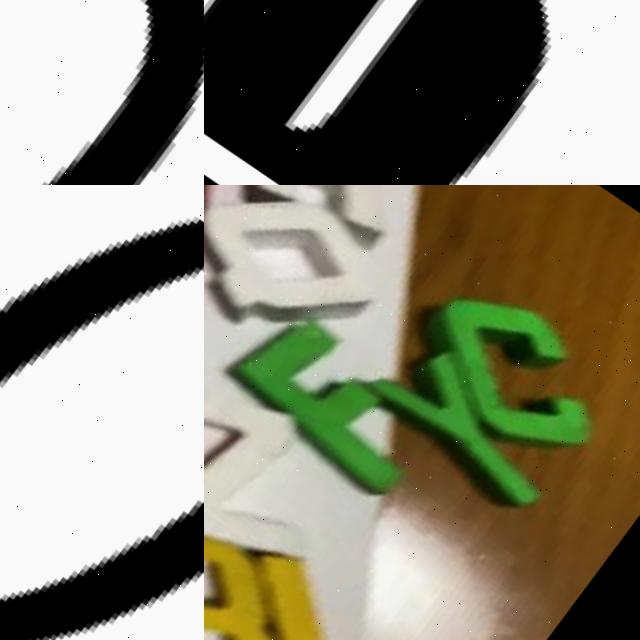0: (0, 185, 204, 640)
B: (204, 0, 555, 185)
C: (403, 269, 640, 469)
F: (215, 307, 468, 511)
H: (204, 185, 455, 261)
L: (212, 549, 507, 640)
Q: (204, 185, 412, 369), (0, 0, 204, 185)
R: (204, 492, 357, 640)
Y: (353, 334, 611, 532)
Z: (204, 359, 377, 590)
